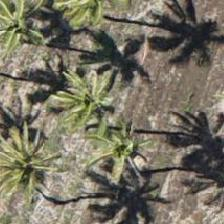coconut_tree: (46, 54, 136, 144), (0, 0, 65, 68)
